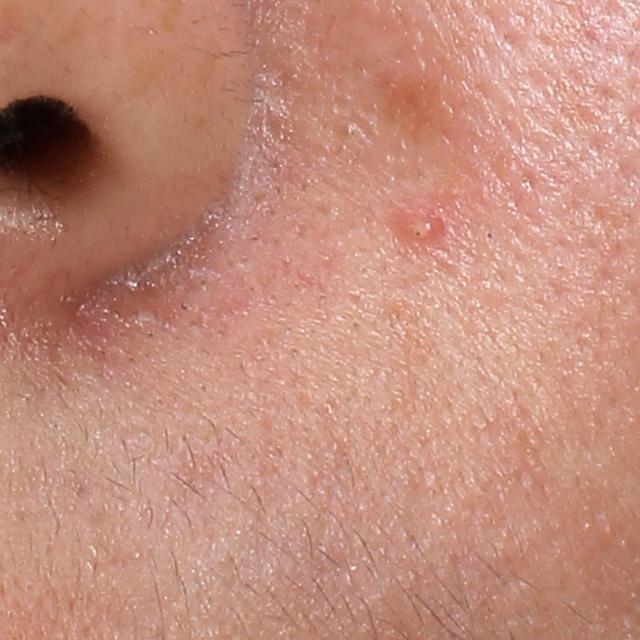pustule: (392, 208, 446, 248)
